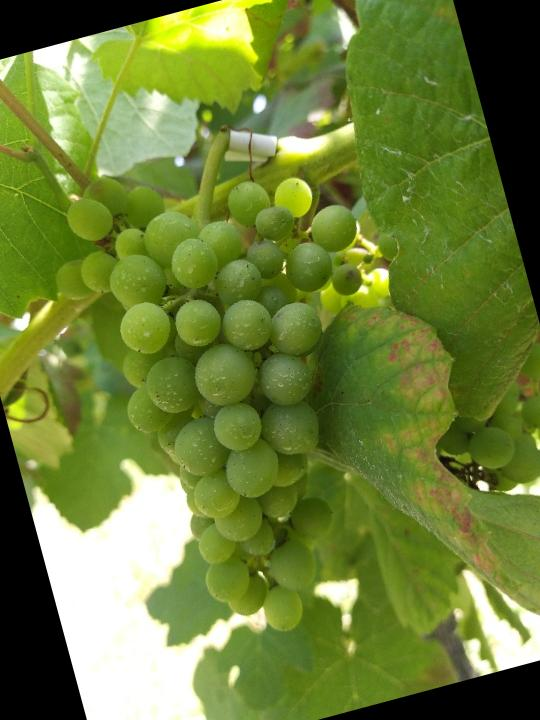grape: (31, 113, 463, 669)
